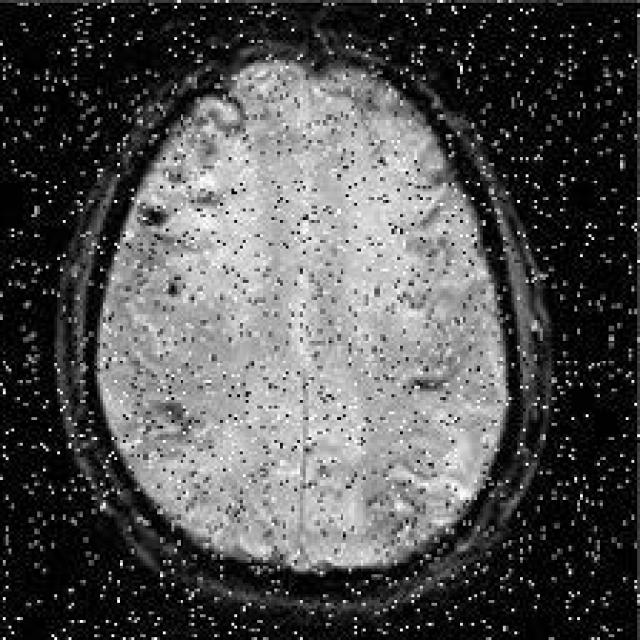no_tumor: (42, 25, 560, 633)
